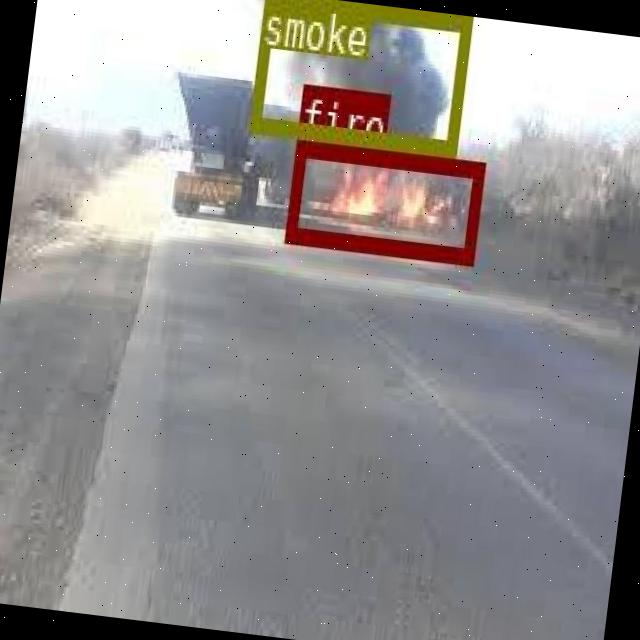fire: (284, 136, 482, 263)
smoke: (246, 0, 469, 155)
